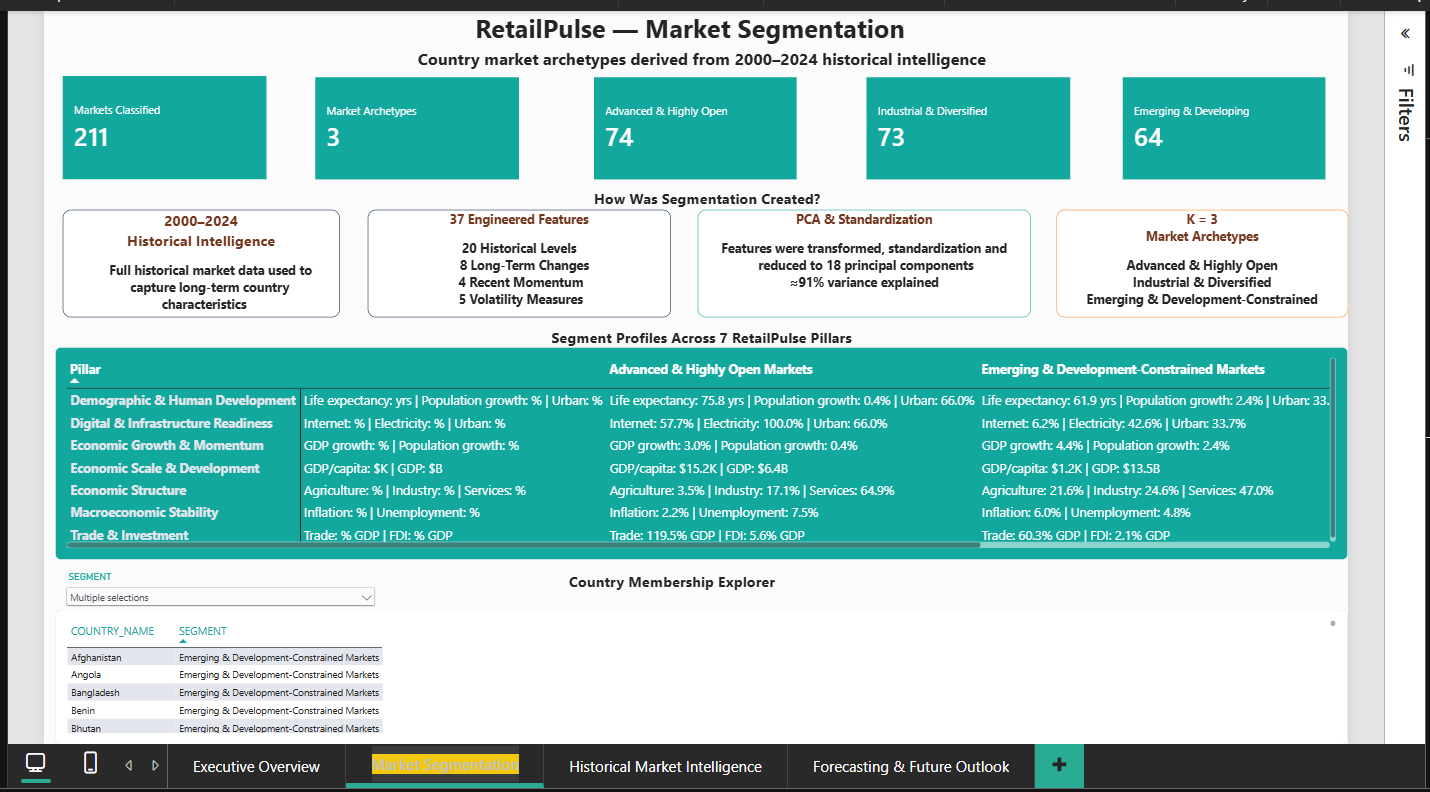

The page's visual inventory and layout, read from the dashboard file:
{"tool":"powerbi","page":{"name":"Market Segmentation","canvas":[1920,1080],"ordinal":1},"visuals":[{"type":"textbox","box":[635,0,649.7,53.4],"z":0},{"type":"textbox","box":[550.3,53.4,857.7,42.3],"z":1000},{"type":"cardVisual","fields":{"Data":["Measures (2).Markets Classified"]},"box":[27.5,95.2,300.3,152.2],"z":2000},{"type":"cardVisual","fields":{"Data":["Measures (2).Market Archetypes"]},"box":[399.6,97.3,300.3,150.1],"z":3000},{"type":"cardVisual","fields":{"Data":["Measures (2).Markets Classified"]},"box":[809.9,97.3,298.1,150.1],"z":4000},{"type":"cardVisual","fields":{"Data":["Measures (2).Markets Classified"]},"box":[1211.6,97.3,300.3,150.1],"z":5000},{"type":"cardVisual","fields":{"Data":["Measures (2).Markets Classified"]},"box":[1588,97.3,298.1,150.1],"z":6000},{"type":"textbox","box":[809.9,262.2,359.5,29.6],"z":7000},{"type":"textbox","title":"Step1","box":[27.5,291.8,408.1,158.6],"z":8000},{"type":"textbox","title":"Step2","box":[475.8,291.8,446.2,158.6],"z":9000},{"type":"textbox","title":"Step3","box":[962.1,291.8,490.6,158.6],"z":10000},{"type":"textbox","title":"Step4","box":[1490.7,291.8,429.3,158.6],"z":11000},{"type":"textbox","box":[746.4,465.2,765.5,29.6],"z":12000},{"type":"pivotTable","fields":{"Columns":["market_segments.SEGMENT"],"Rows":["RetailPulse Pillars.Pillar"],"Values":["Measures (2).Segment Profile Value"]},"box":[16.9,494.8,1903.1,313],"z":13000},{"type":"textbox","box":[773.9,824.7,433.5,31.7],"z":14000},{"type":"tableEx","fields":{"Values":["DIM_COUNTRY.COUNTRY_NAME","market_segments.SEGMENT"]},"box":[16.9,881.8,1903.1,198.8],"z":15000},{"type":"slicer","fields":{"Values":["market_segments.SEGMENT"]},"box":[27.5,824.7,465.2,57.1],"z":16000}]}

Visuals, with their boxes on the page's 1920x1080 design canvas (x1, y1, x2, y2). These are canvas units, not pixel positions in the 1430x792 screenshot, which may show the page scaled, cropped or inside an application window:
textbox: 635,0,1285,53
textbox: 550,53,1408,96
cardVisual - Measures (2).Markets Classified: 28,95,328,247
cardVisual - Measures (2).Market Archetypes: 400,97,700,247
cardVisual - Measures (2).Markets Classified: 810,97,1108,247
cardVisual - Measures (2).Markets Classified: 1212,97,1512,247
cardVisual - Measures (2).Markets Classified: 1588,97,1886,247
textbox: 810,262,1169,292
"Step1" textbox: 28,292,436,450
"Step2" textbox: 476,292,922,450
"Step3" textbox: 962,292,1453,450
"Step4" textbox: 1491,292,1920,450
textbox: 746,465,1512,495
pivotTable - market_segments.SEGMENT x RetailPulse Pillars.Pillar: 17,495,1920,808
textbox: 774,825,1207,856
tableEx - DIM_COUNTRY.COUNTRY_NAME x market_segments.SEGMENT: 17,882,1920,1081
slicer - market_segments.SEGMENT: 28,825,493,882
